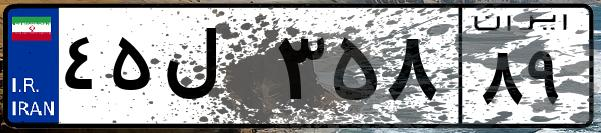3: (270, 28, 330, 110)
4: (57, 26, 110, 100)
5: (330, 28, 385, 110), (110, 28, 158, 98)
8: (385, 28, 445, 110), (475, 38, 525, 113)
9: (525, 38, 570, 115)
ل: (158, 20, 270, 120)
